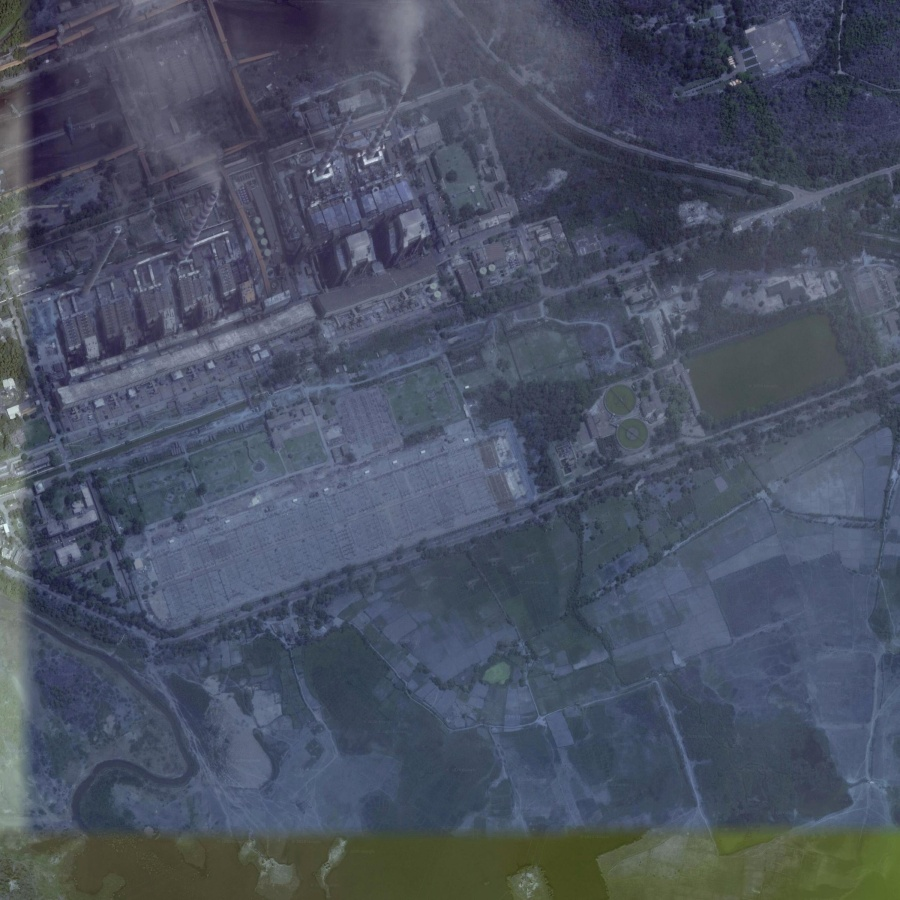PowerPlant: (674, 292, 856, 440)
